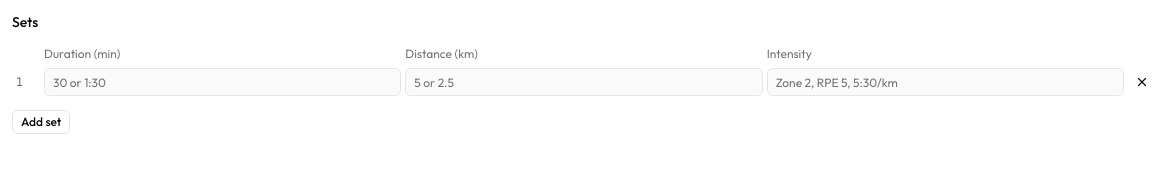
SetsTable aerobic › rejects out-of-range duration and distance without storing them
The image size is (1163, 172).
Step 1. Type "500" into the field named "Set 1: Duration (min)" → (223, 82), box top-left (44, 68), bottom-right (401, 96)
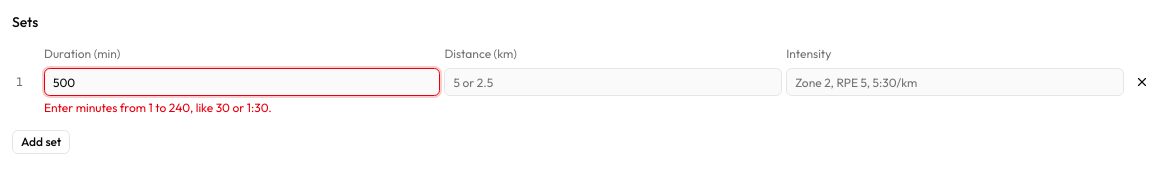
Expected: the text "Enter minutes from 1 to 240, like 30 or 1:30." is shown, top-left (44, 100), bottom-right (272, 115)
Step 2. Type "300" into the field named "Set 1: Distance (km)" → (613, 82), box top-left (444, 68), bottom-right (782, 96)
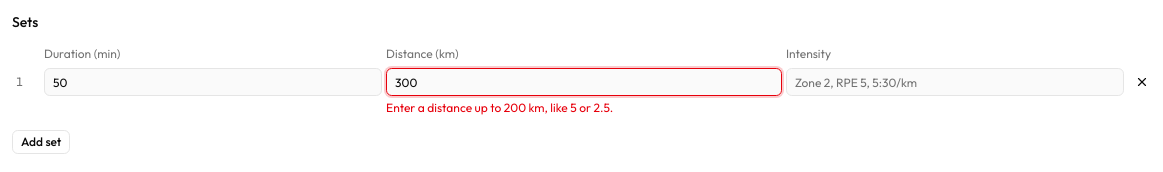
Expected: the text "Enter a distance up to 200 km, like 5 or 2.5." is shown, top-left (386, 100), bottom-right (613, 115)
